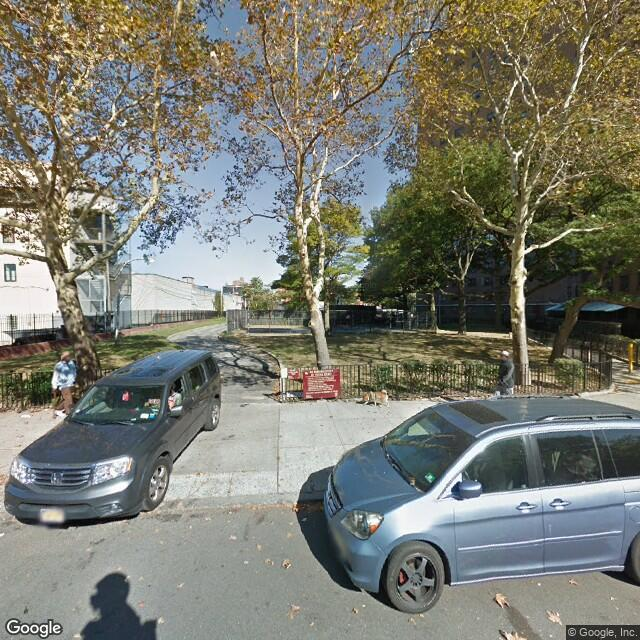litter: (496, 590, 512, 615), (13, 410, 40, 422), (495, 632, 532, 639)
